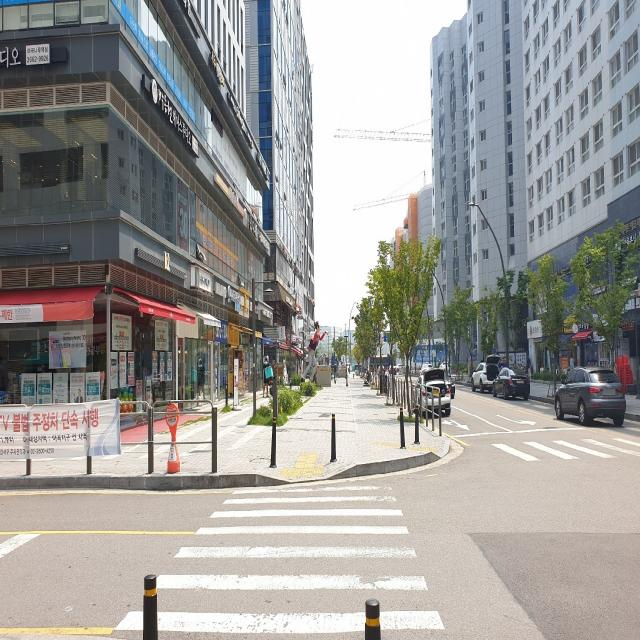횡단보도: (111, 481, 447, 634)
